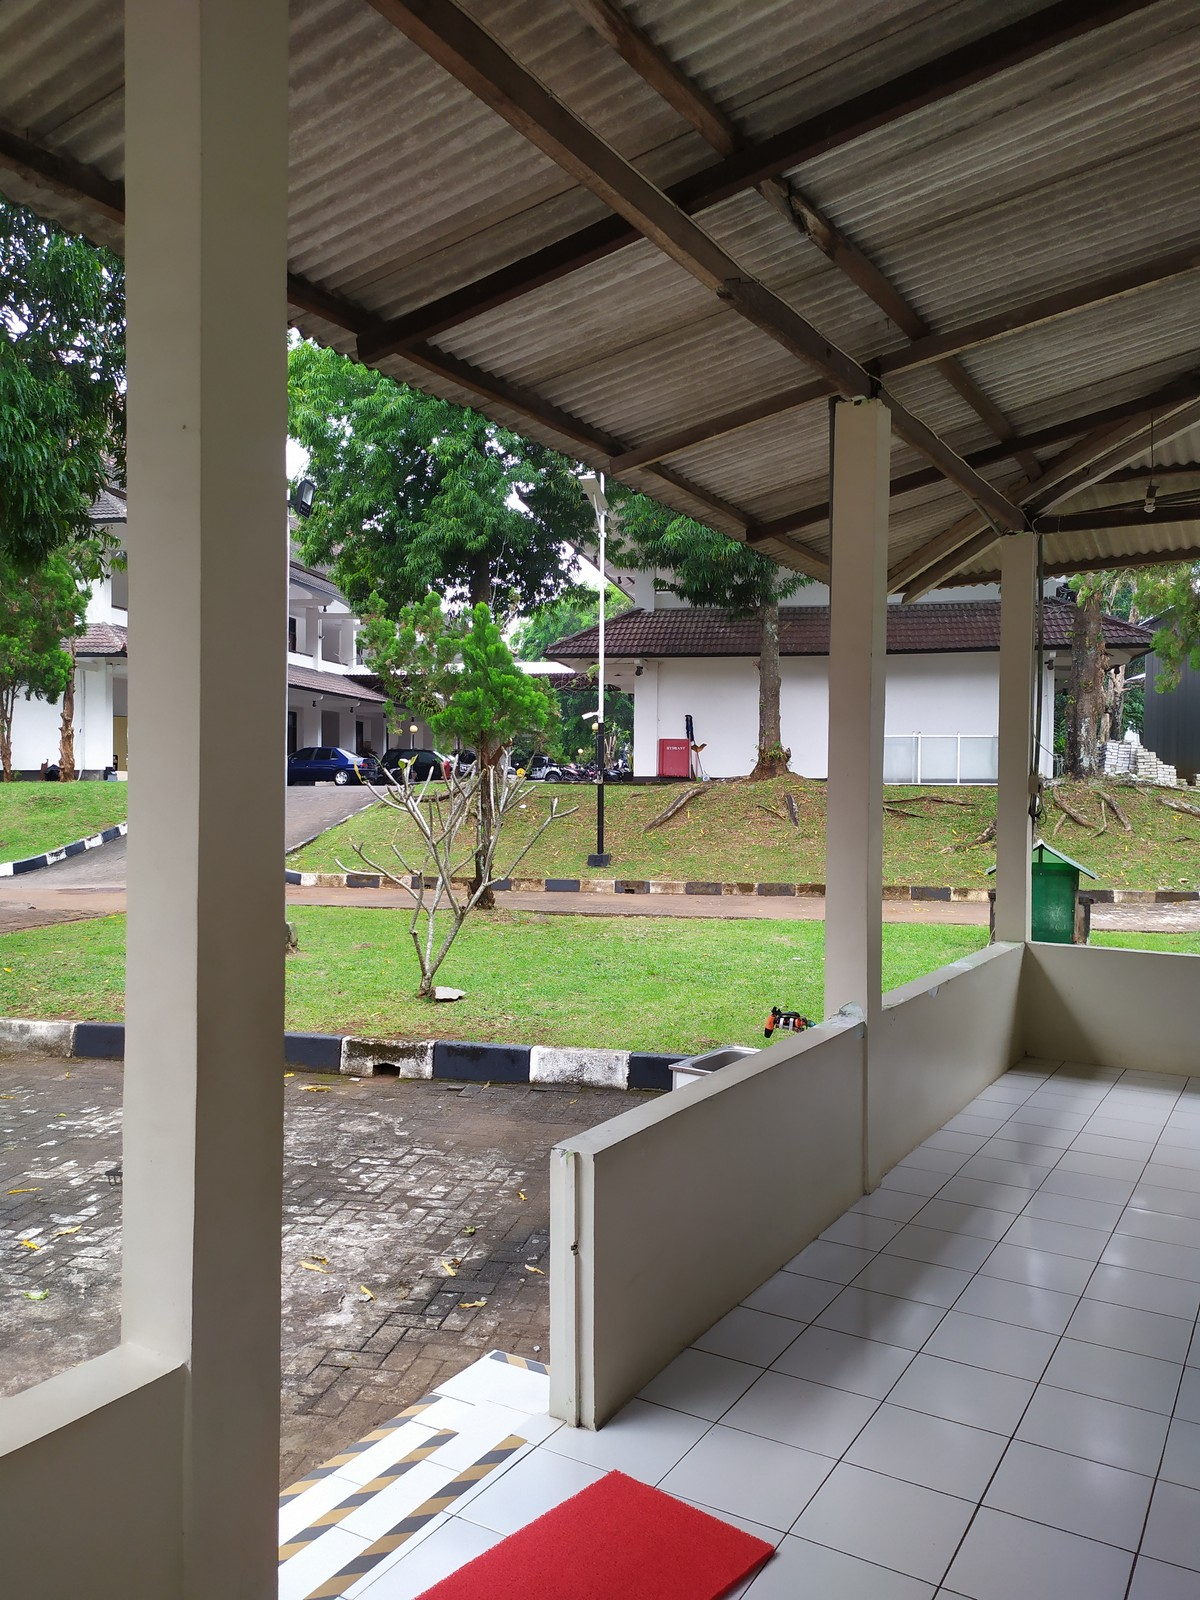concrete column: (110, 1, 299, 1587), (822, 389, 897, 1198), (996, 525, 1041, 955)
